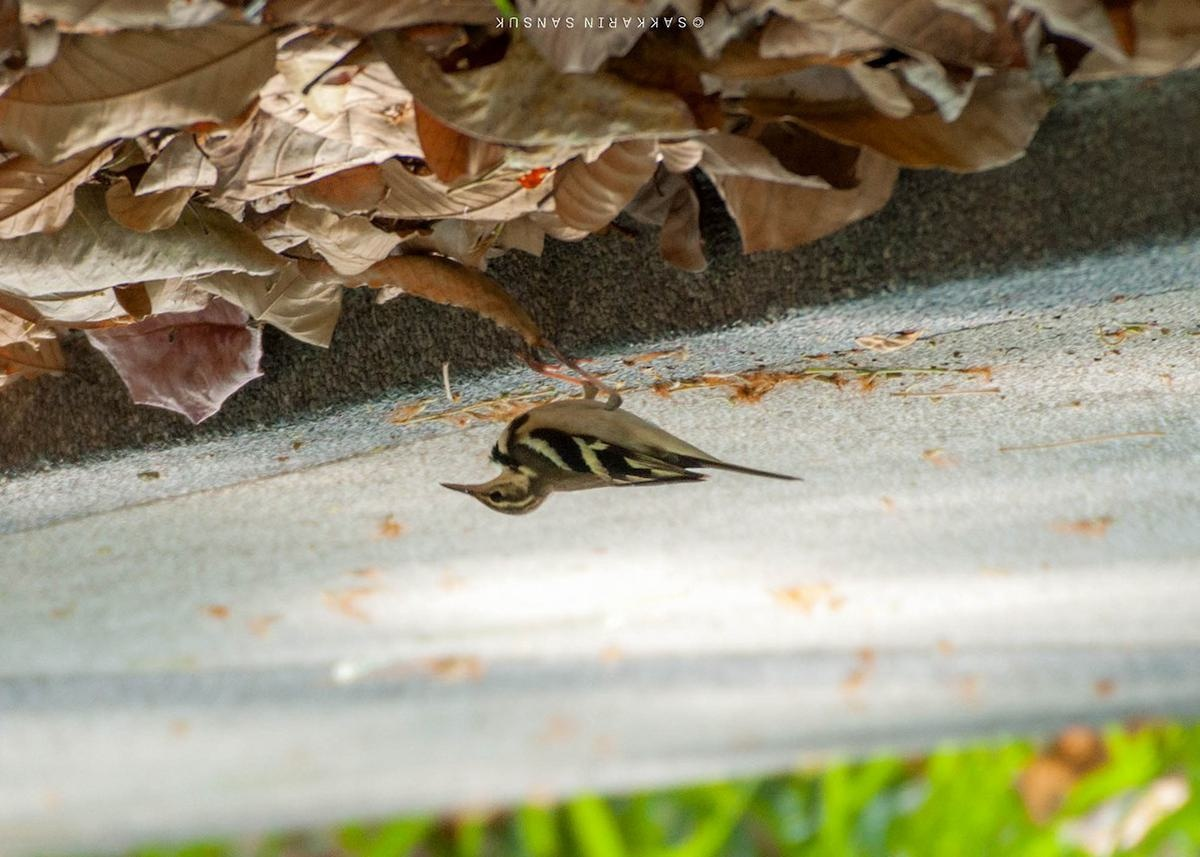wagtail: (438, 360, 805, 538)
